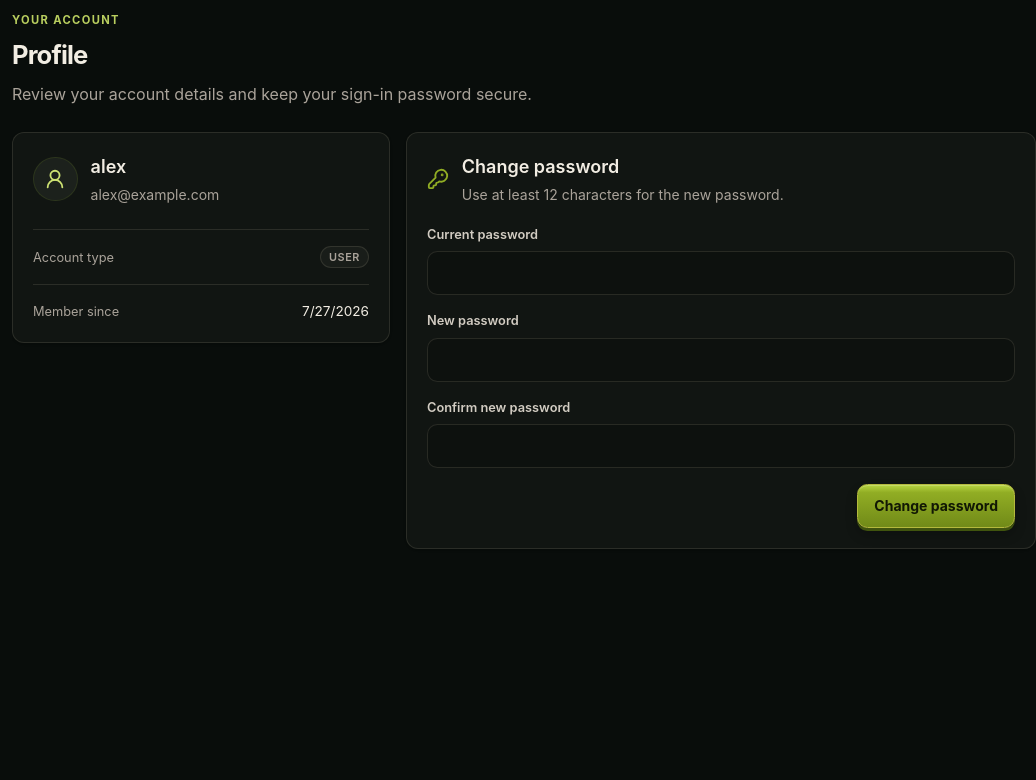
UserProfilePage › does not submit mismatched password confirmation
Type "current-password" into the password field labelled "Current password".
click(721, 273); type("current-password")  # box [427, 251, 1015, 295]
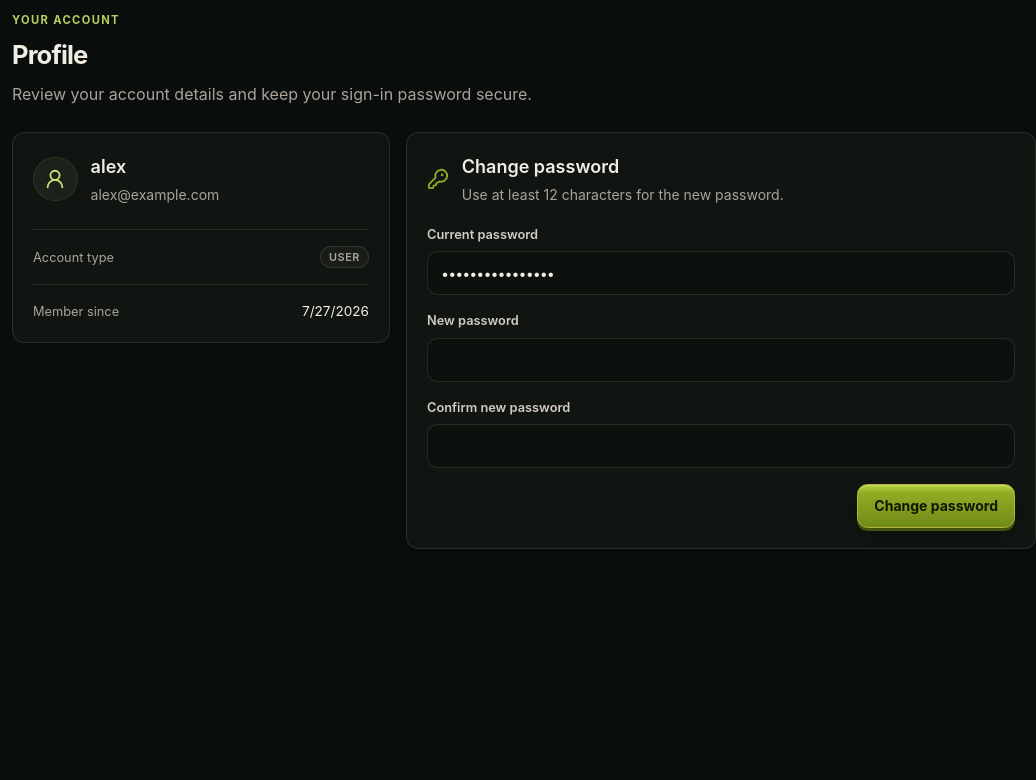
Type "replacement-password" into the password field labelled "New password".
click(721, 360); type("replacement-password")  # box [427, 338, 1015, 382]
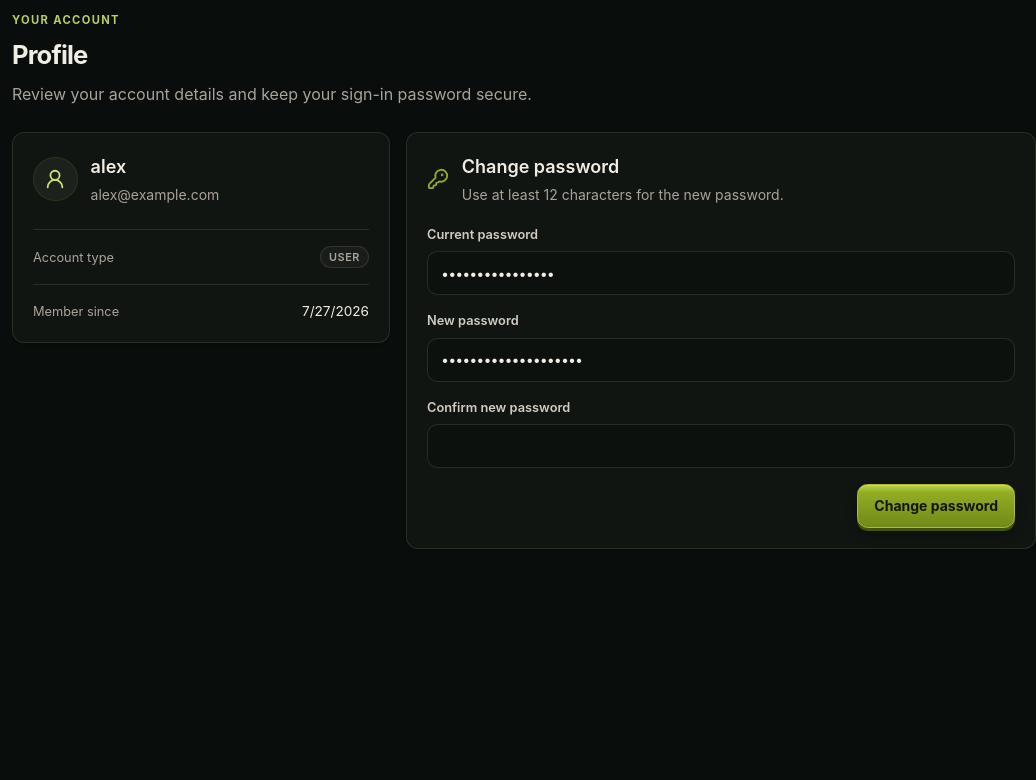
Type "different-password" into the password field labelled "Confirm new password".
click(721, 446); type("different-password")  # box [427, 424, 1015, 468]
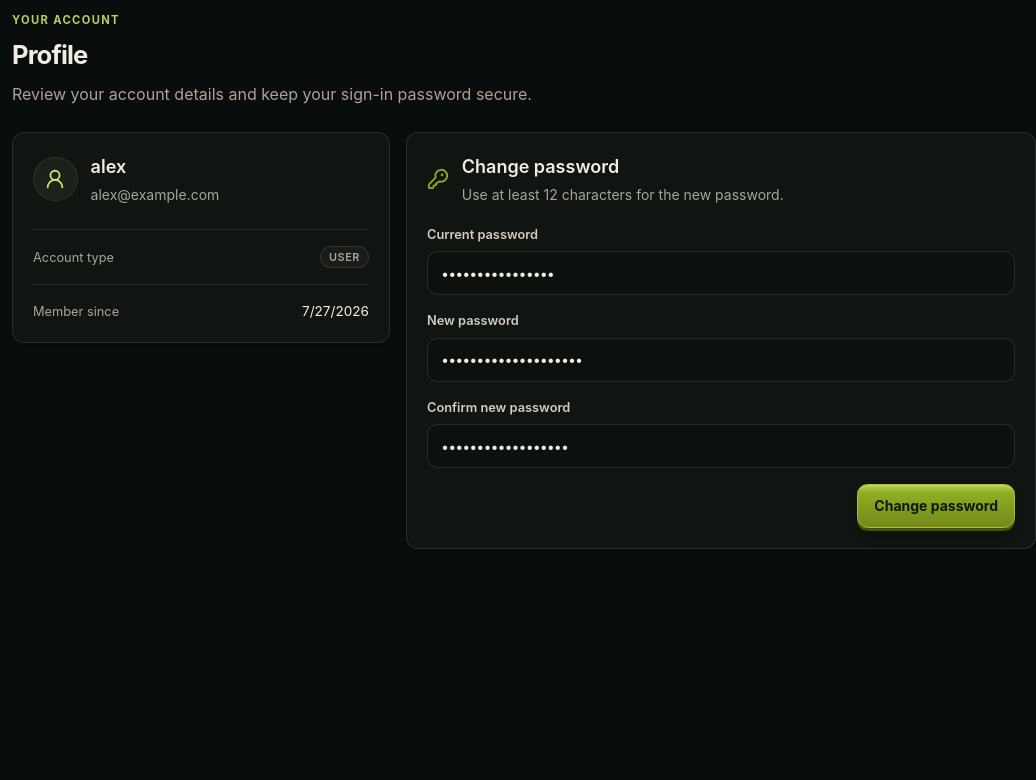
Submit the form, box [427, 225, 1015, 528]
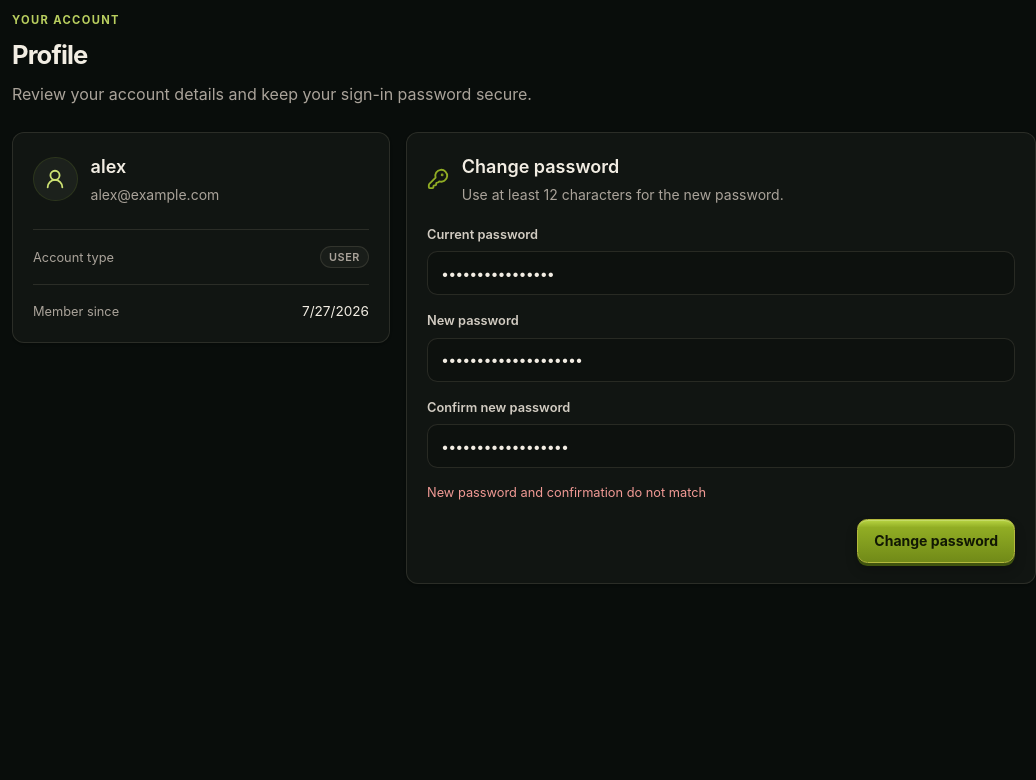
Now the message "New password and confirmation do not match" is shown, box [427, 485, 706, 500]
